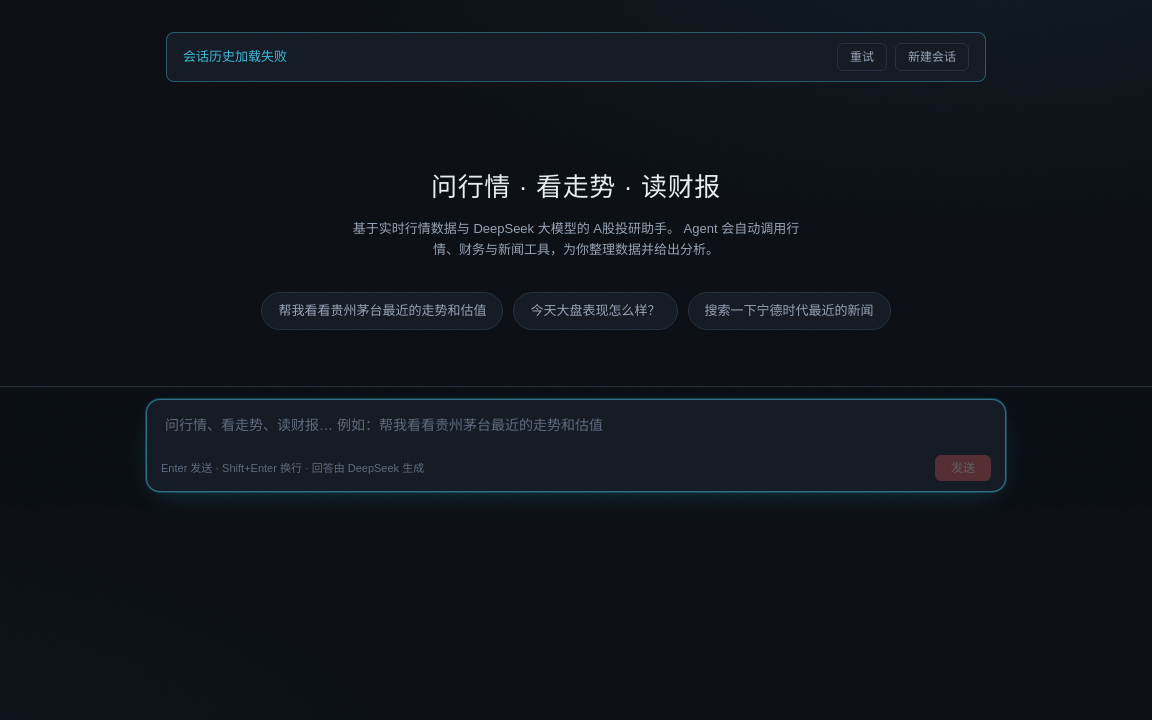
Test: ThreadArea › 点「新建会话」：newThread 生效（POST /api/conversations）、错误卡消失
Expected: the element with test id "hydrate-error" is shown, x1=166 y1=32 x2=986 y2=82
Click the button "新建会话" at (932, 57), box x1=895 y1=43 x2=969 y2=71
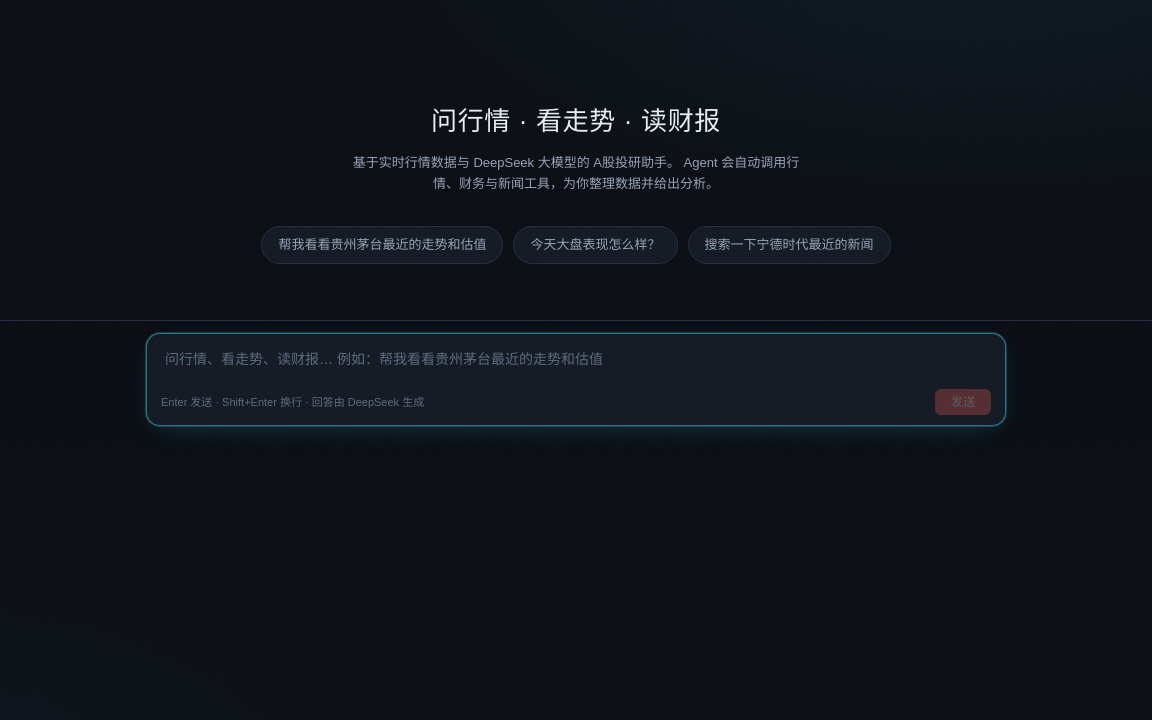
Result: the element with test id "hydrate-error" is gone
